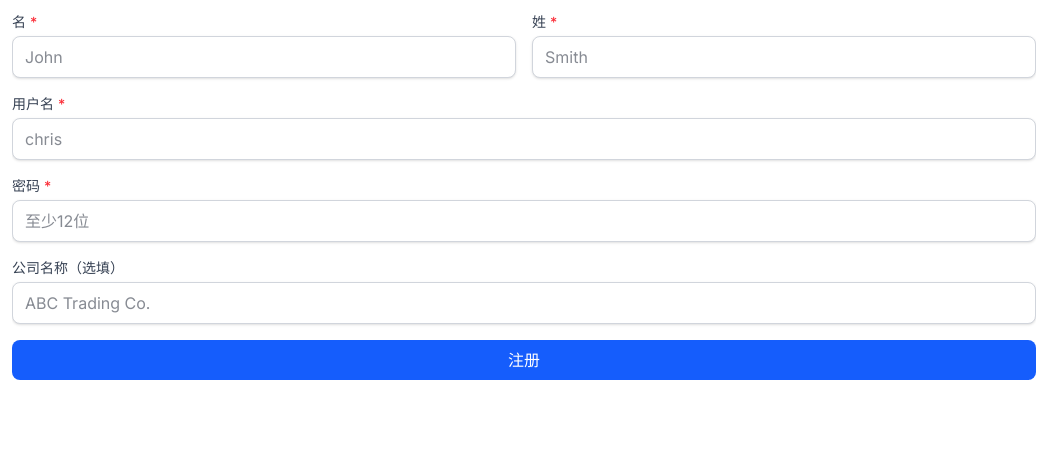
Test: RegistrationForm (FF-005) › 空提交显示验证错误
The image size is (1048, 473).
Click the button "注册".
click(524, 360)  # box [12,340,1036,380]
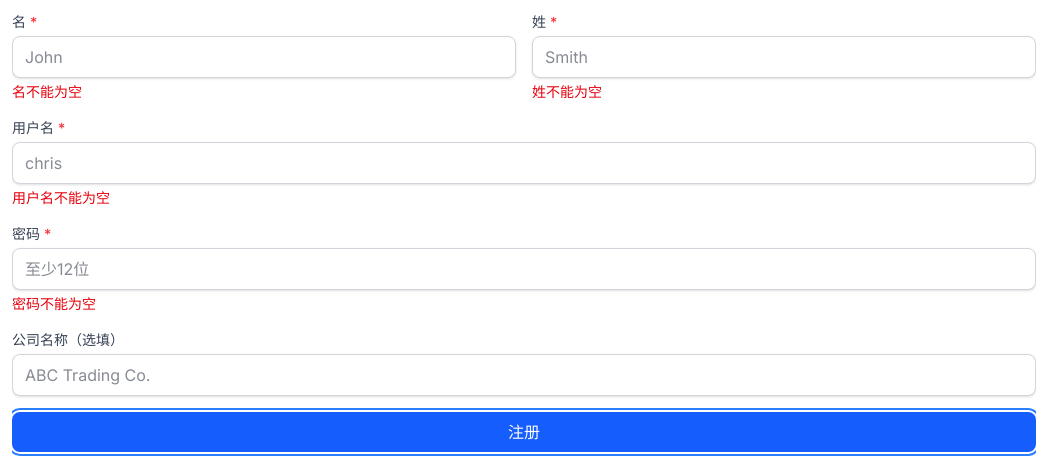
expect the text "用户名不能为空" is shown: met, box [12,189,110,206]
expect the text "密码不能为空" is shown: met, box [12,295,96,312]
expect the text "名不能为空" is shown: met, box [12,83,82,100]
